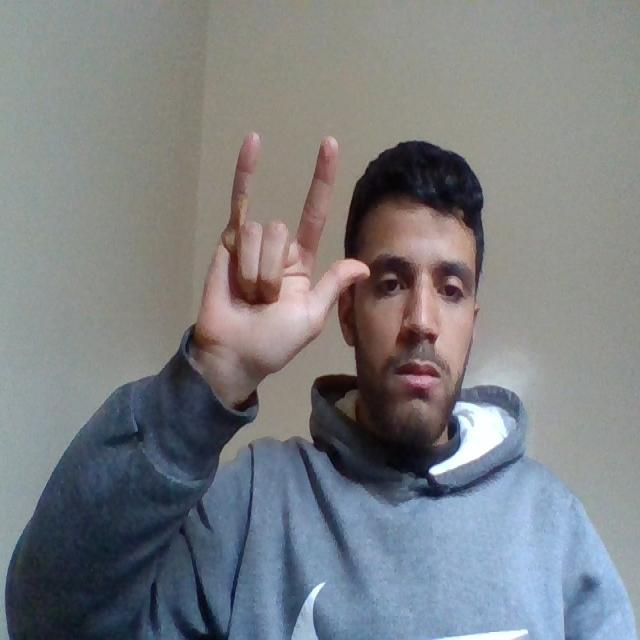I Love You: (181, 128, 373, 385)
